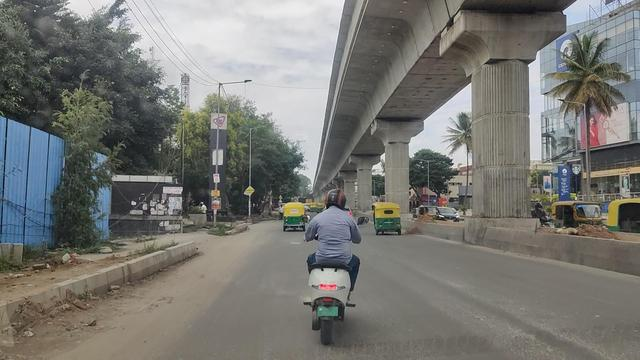LMV: (304, 182, 366, 348), (375, 199, 403, 235), (280, 203, 308, 229)
